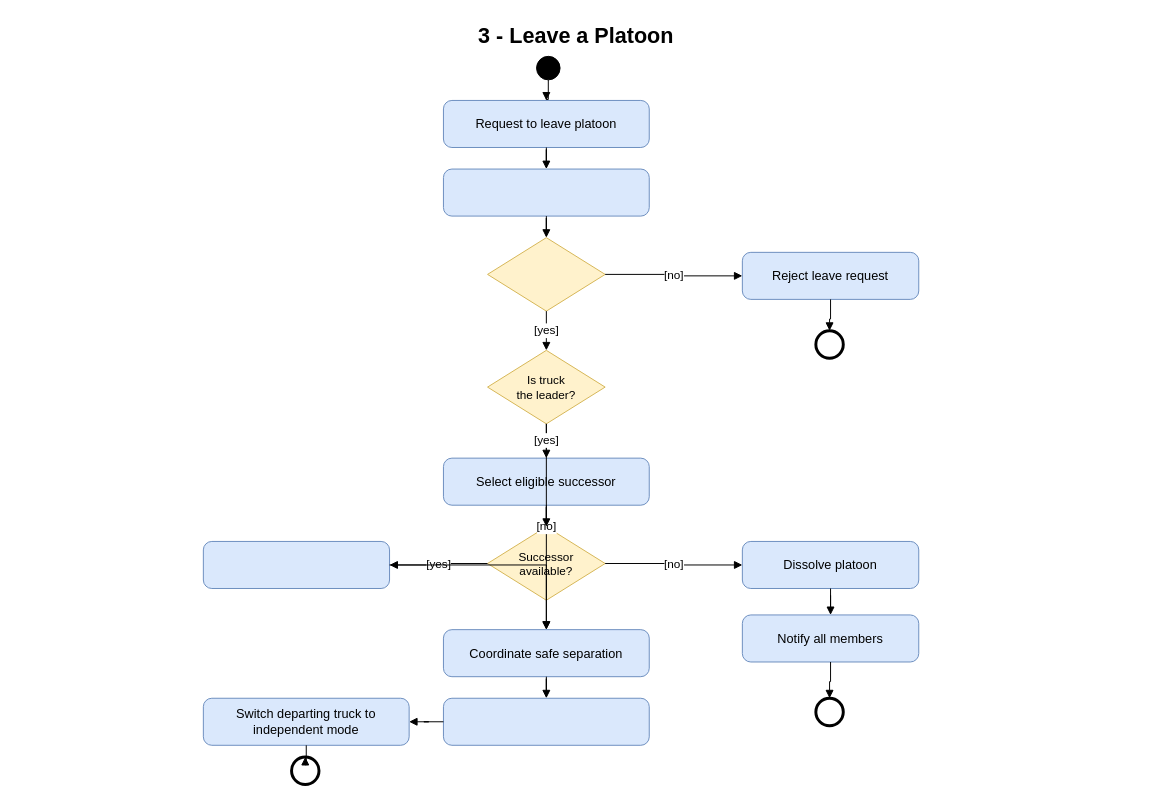
Some shapes in this 1151 by 803 pixel diagram are drawn without their labels. The box of each missing label's shape, as (x1, y1, x2, y2) in pixels:
Remove truck and update membership: (442, 697, 649, 745)
Transfer leadership: (202, 540, 390, 588)
Valid member?: (487, 237, 605, 311)
Validate truck membership: (442, 168, 649, 216)
